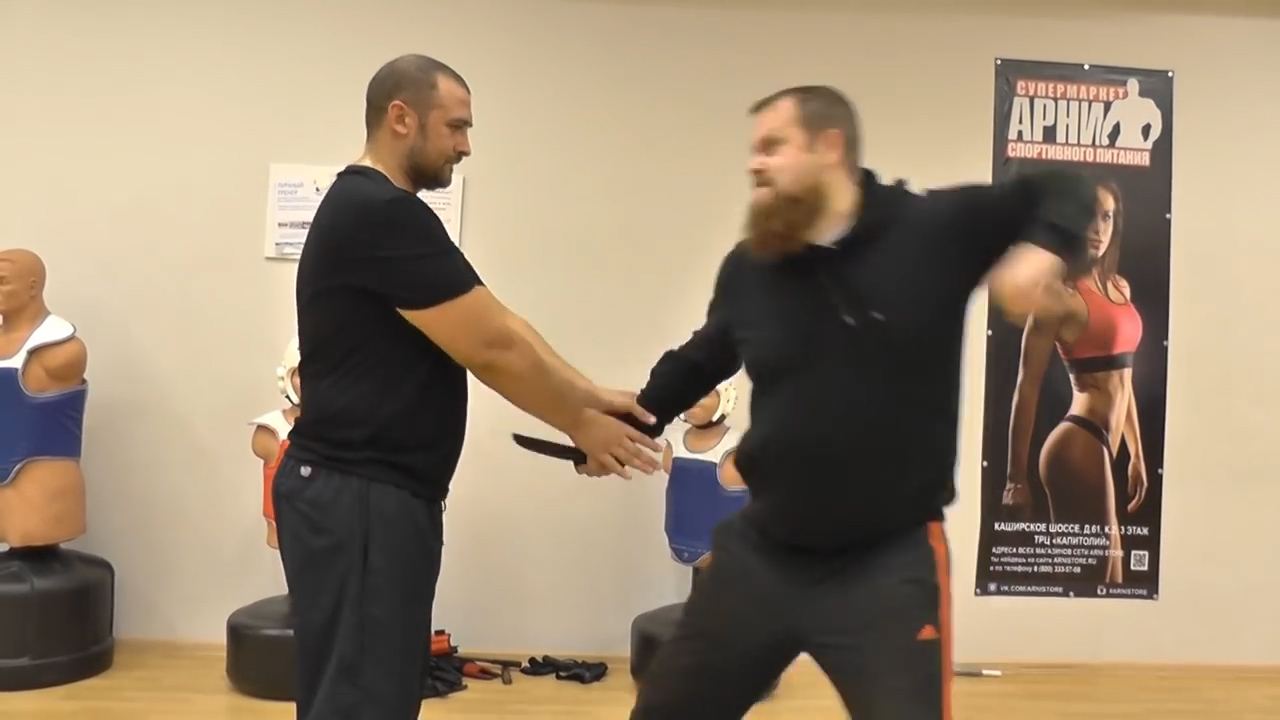knife: (509, 429, 634, 482)
